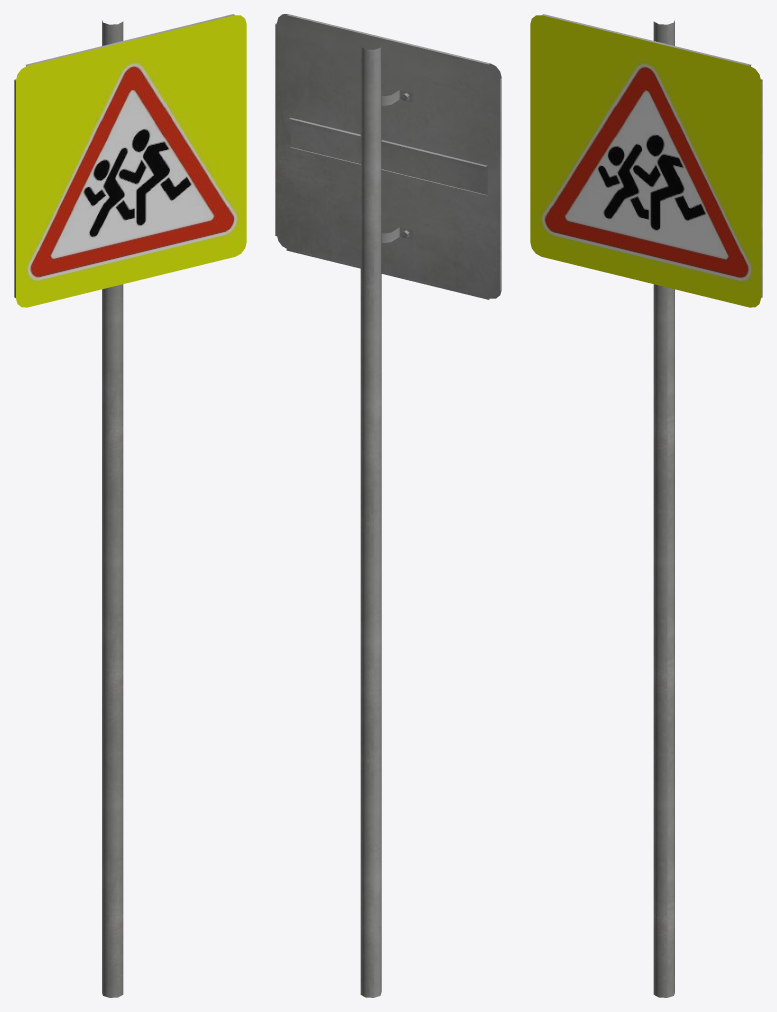
Rendered from sign_children.glb.
3 views of the same model, side by side, from view 1: azimuth 30°, elevation 25°; view 2: azimuth 150°, elevation 25°; view 3: azimuth 330°, elevation 25° (orthographic). The views are drawn at different scales.
Parts seen in each view (by area): view 1: Children_Kids_0, __Pole_MetalBack_0, Children_MetalBack_0; view 2: Children_MetalBack_0, __Pole_MetalBack_0; view 3: Children_Kids_0, __Pole_MetalBack_0, Children_MetalBack_0.
Part boxes in pixels (<box>): Children_Kids_0: <box>16,15,246,307</box>; __Pole_MetalBack_0: <box>102,20,123,997</box>; Children_MetalBack_0: <box>14,14,234,297</box>; Children_MetalBack_0: <box>275,14,501,299</box>; __Pole_MetalBack_0: <box>360,44,381,997</box>; Children_Kids_0: <box>530,15,760,307</box>; __Pole_MetalBack_0: <box>653,20,674,997</box>; Children_MetalBack_0: <box>542,14,762,297</box>.
Size of the model in its own units: 0.72 by 2.9 by 0.1311.
Materials: 2 (2 with a texture image).
